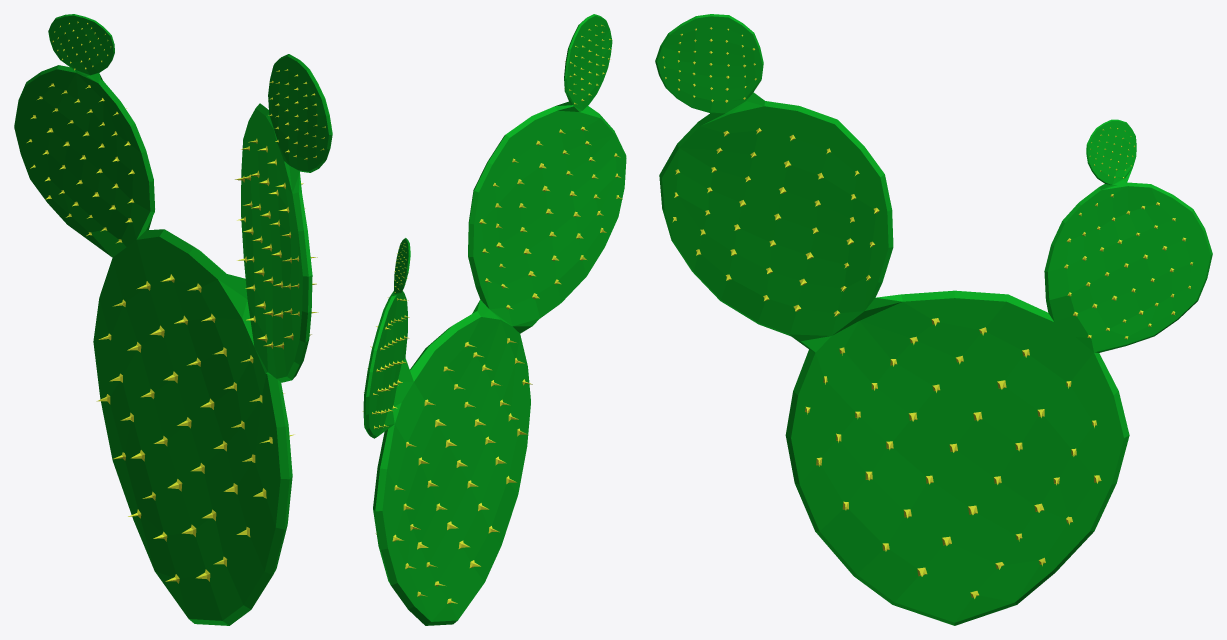
The model's file is PricklyCactus2.fbx.
3 views of the same model, side by side, from view 1: azimuth 30°, elevation 25°; view 2: azimuth 150°, elevation 25°; view 3: azimuth 270°, elevation 25° (orthographic). The views are drawn at different scales.
Parts seen in each view (by area): view 1: Cylinder; view 2: Cylinder; view 3: Cylinder.
Part boxes in pixels (x1,y1,x2,y2): Cylinder: [14, 14, 332, 625]; Cylinder: [362, 14, 626, 625]; Cylinder: [655, 14, 1212, 625].
Bounding box in the file's own units: 13.94 × 107 × 90.82.
